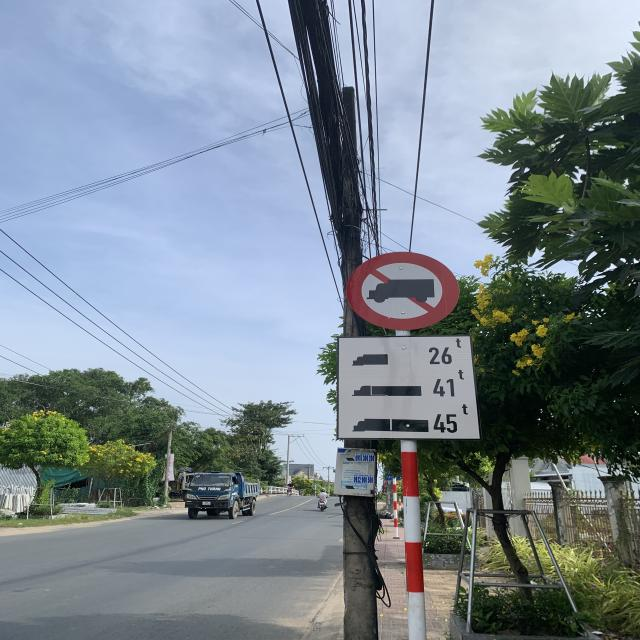Cam_Xe_Tai: (347, 250, 456, 329)
